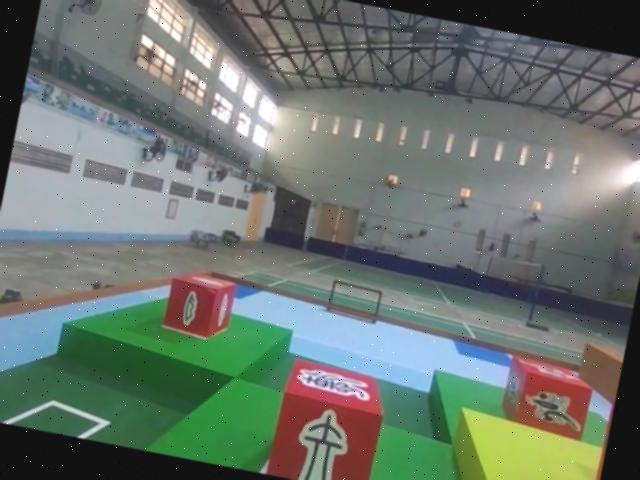R1: (495, 350, 602, 445)
R2 Fake: (265, 353, 394, 480)
R2 Real: (160, 266, 240, 346)
